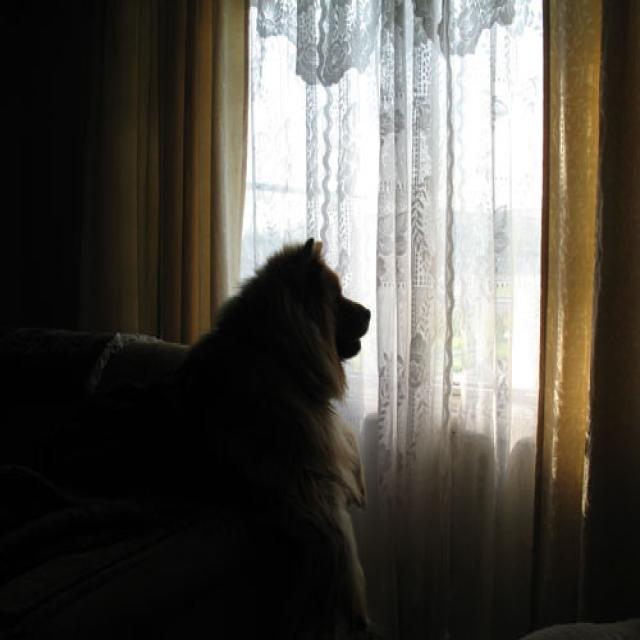Dog: (139, 146, 415, 586)
